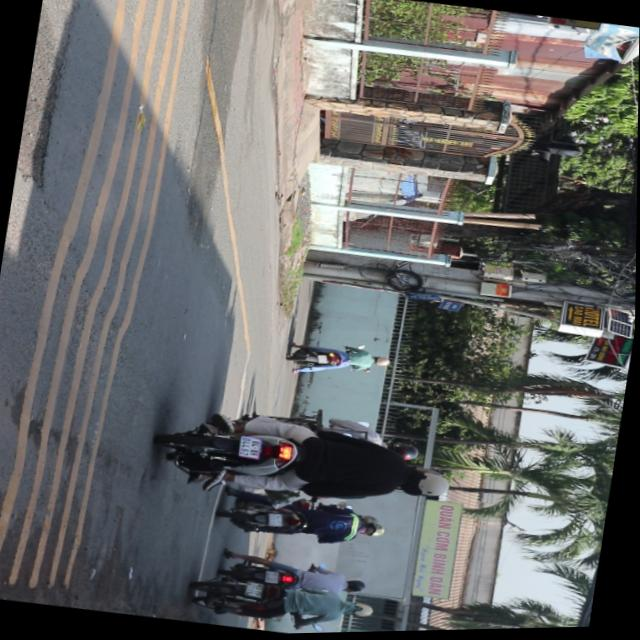helmet: (404, 465, 456, 501), (391, 443, 421, 464), (349, 602, 379, 621)
licenseplate: (151, 395, 462, 525), (189, 570, 379, 637)
nohelmet: (241, 437, 264, 460), (246, 583, 266, 598)
